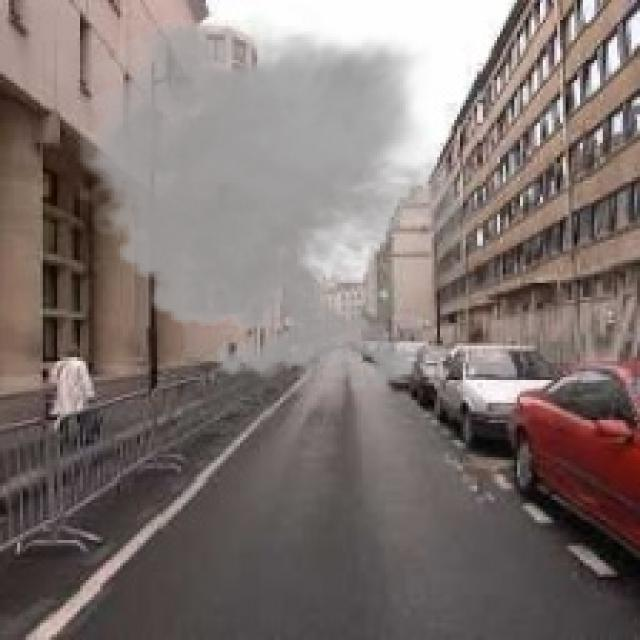Smoke: (63, 6, 486, 403)
